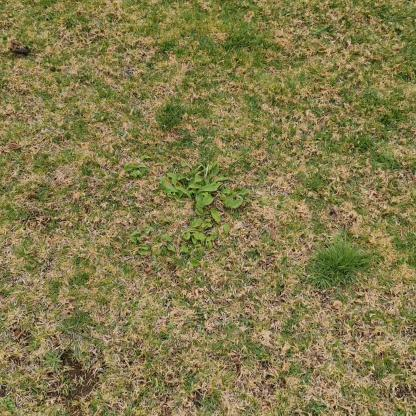Weeds: (130, 161, 251, 269), (122, 156, 153, 180), (42, 350, 63, 373)
